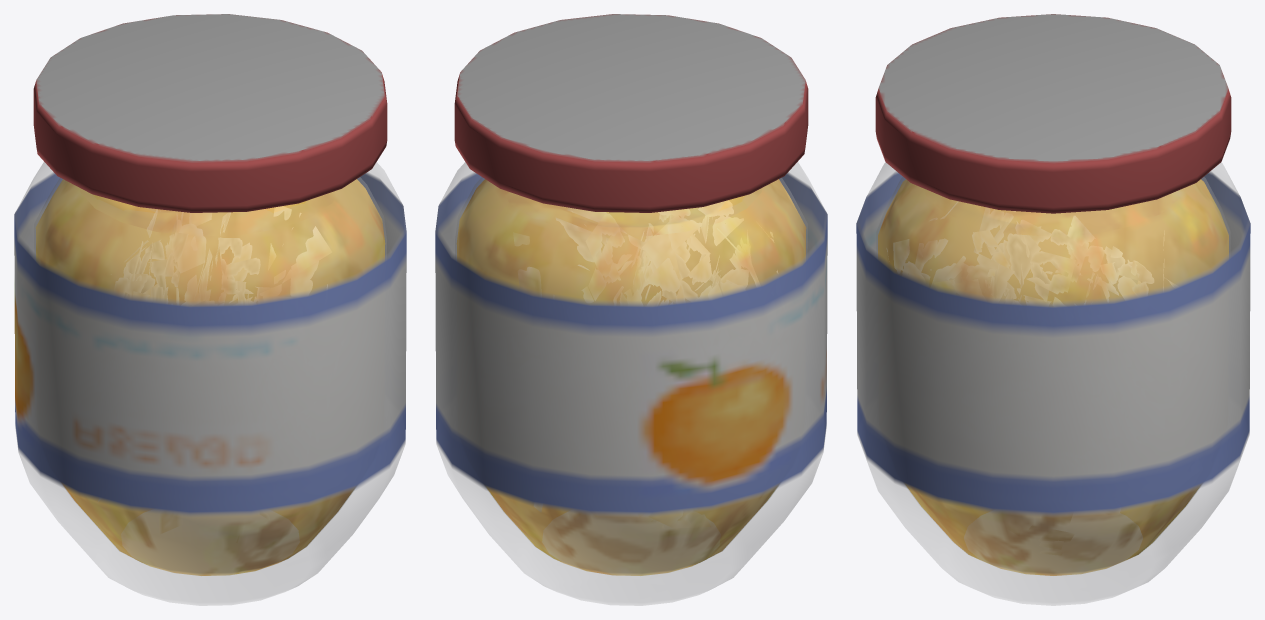
The model's file is pi_marmalade01.gltf.
3 views of the same model, side by side, from view 1: azimuth 30°, elevation 25°; view 2: azimuth 150°, elevation 25°; view 3: azimuth 270°, elevation 25° (orthographic).
Parts seen in each view (by area): view 1: pi_marmalade01_bottle_outside01_mesh_shape:pi_marmalade01_gl, pi_marmalade01_lid01_mesh_shape:pi_marmalade01_body, pi_marmalade01_jam01_mesh_shape:pi_marmalade01_jam, pi_marmalade01_bottle_inside01_mesh_shape:pi_marmalade01_gla; view 2: pi_marmalade01_bottle_outside01_mesh_shape:pi_marmalade01_gl, pi_marmalade01_lid01_mesh_shape:pi_marmalade01_body, pi_marmalade01_jam01_mesh_shape:pi_marmalade01_jam, pi_marmalade01_bottle_inside01_mesh_shape:pi_marmalade01_gla; view 3: pi_marmalade01_bottle_outside01_mesh_shape:pi_marmalade01_gl, pi_marmalade01_lid01_mesh_shape:pi_marmalade01_body, pi_marmalade01_jam01_mesh_shape:pi_marmalade01_jam, pi_marmalade01_bottle_inside01_mesh_shape:pi_marmalade01_gla.
Boxes of the visible parts, bbox=[...] form: pi_marmalade01_bottle_outside01_mesh_shape:pi_marmalade01_gl: bbox=[14, 162, 406, 605]; pi_marmalade01_lid01_mesh_shape:pi_marmalade01_body: bbox=[33, 14, 387, 212]; pi_marmalade01_jam01_mesh_shape:pi_marmalade01_jam: bbox=[35, 179, 385, 575]; pi_marmalade01_bottle_inside01_mesh_shape:pi_marmalade01_gla: bbox=[34, 177, 386, 575]; pi_marmalade01_bottle_outside01_mesh_shape:pi_marmalade01_gl: bbox=[435, 162, 827, 605]; pi_marmalade01_lid01_mesh_shape:pi_marmalade01_body: bbox=[454, 14, 808, 212]; pi_marmalade01_jam01_mesh_shape:pi_marmalade01_jam: bbox=[456, 179, 806, 575]; pi_marmalade01_bottle_inside01_mesh_shape:pi_marmalade01_gla: bbox=[455, 177, 807, 575]; pi_marmalade01_bottle_outside01_mesh_shape:pi_marmalade01_gl: bbox=[856, 162, 1250, 605]; pi_marmalade01_lid01_mesh_shape:pi_marmalade01_body: bbox=[875, 14, 1231, 213]; pi_marmalade01_jam01_mesh_shape:pi_marmalade01_jam: bbox=[878, 179, 1228, 575]; pi_marmalade01_bottle_inside01_mesh_shape:pi_marmalade01_gla: bbox=[876, 177, 1230, 575].
Size of the model in its own units: 0.084 by 0.1119 by 0.084.
Materials: 3 (3 with a texture image).
